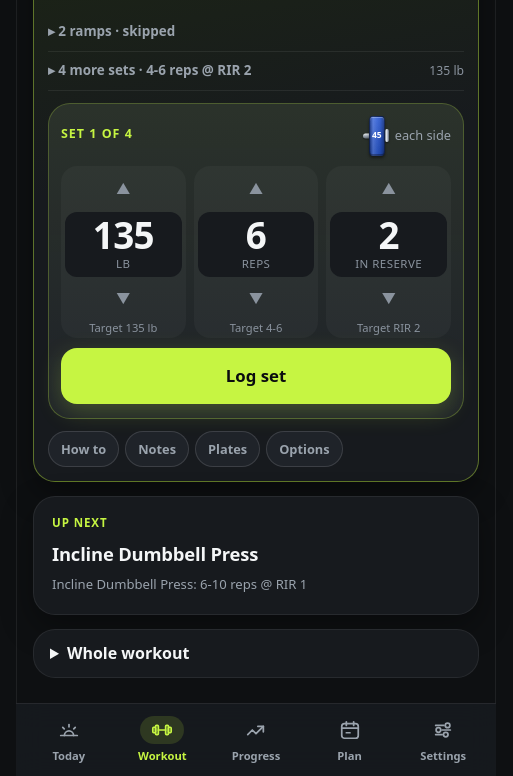
Test case: the plates on the Workout tab › draws the plates for the dial, under the logger and on the Plates panel alike
The image size is (513, 776).
(page scrolled)
Step 1. Click the tab with test id "plates-tab" → (228, 449), box [195, 431, 260, 467]
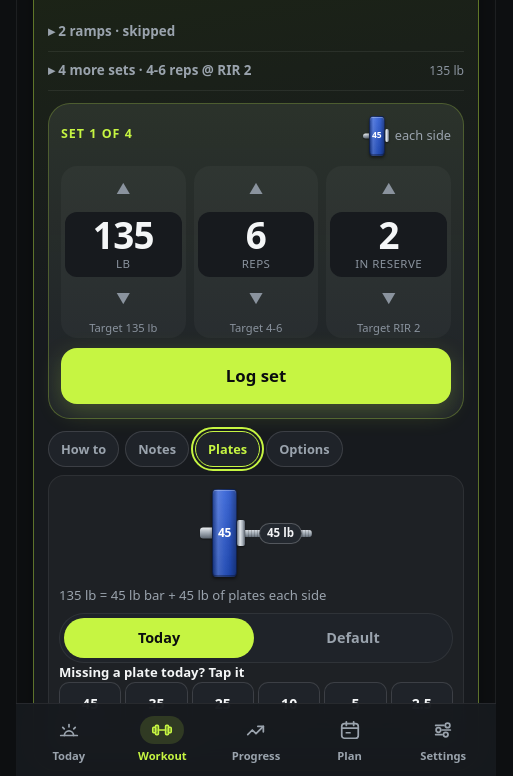
expect the text with test id "plate-caption" reads "135 lb = 45 lb bar + 45 lb of plates each side": met, box [59, 586, 326, 604]
